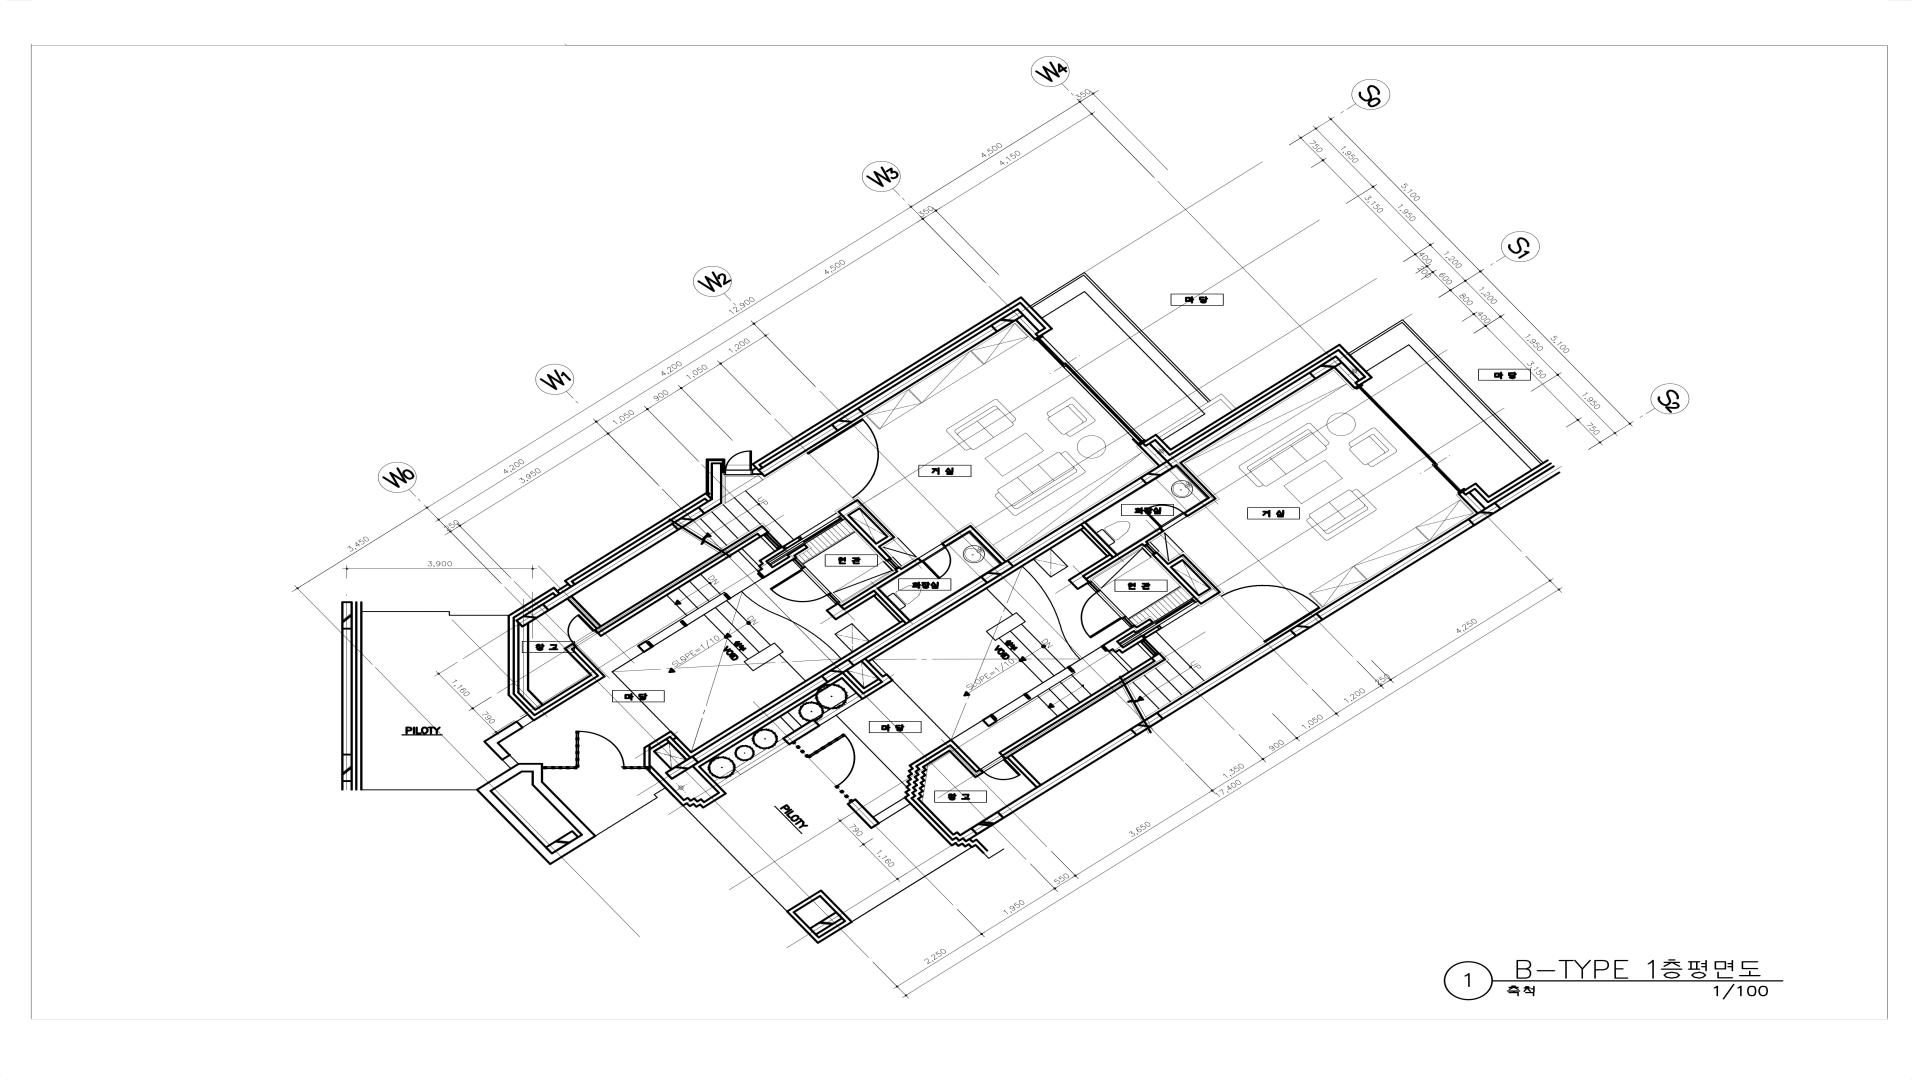door: (1219, 560, 1322, 643), (807, 417, 909, 500), (1056, 581, 1135, 647), (761, 558, 840, 623), (1143, 496, 1188, 532), (918, 543, 963, 579), (798, 512, 845, 544), (1154, 597, 1200, 629), (557, 614, 597, 647), (981, 756, 1021, 788), (725, 450, 752, 475)
wall: (665, 355, 1344, 780), (964, 465, 1561, 839), (757, 308, 1025, 477), (515, 499, 722, 628), (594, 525, 769, 637), (998, 653, 1167, 760), (837, 508, 891, 560), (1153, 553, 1206, 605), (904, 798, 953, 847), (1100, 618, 1161, 654), (757, 537, 809, 579), (543, 672, 600, 708), (942, 739, 985, 778), (875, 558, 922, 589), (1117, 528, 1164, 558), (969, 529, 1006, 564), (1177, 463, 1213, 498), (841, 584, 882, 613), (874, 592, 910, 625), (1078, 523, 1114, 556), (1081, 551, 1122, 579), (1007, 755, 1041, 787), (567, 597, 601, 628), (563, 645, 595, 675), (1182, 558, 1214, 588), (860, 506, 891, 536), (908, 745, 949, 767), (517, 623, 529, 693), (1137, 439, 1167, 466), (1334, 363, 1364, 389), (1184, 494, 1217, 517), (517, 690, 548, 714), (942, 525, 975, 547), (1457, 488, 1485, 513), (1016, 316, 1044, 341), (904, 766, 925, 799), (711, 463, 722, 503), (825, 603, 849, 621), (1067, 572, 1090, 590), (1199, 585, 1221, 602), (843, 499, 865, 515), (952, 832, 971, 846), (877, 533, 896, 547), (1168, 554, 1188, 567), (752, 468, 762, 475), (569, 643, 577, 649), (722, 463, 725, 473)
window: (1035, 336, 1146, 445), (1355, 384, 1465, 493), (761, 532, 782, 551), (1138, 639, 1159, 658), (883, 556, 903, 573), (1140, 541, 1160, 558)
